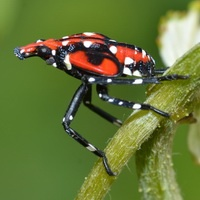insect: (14, 32, 199, 199), (69, 83, 137, 152), (105, 82, 155, 104)
